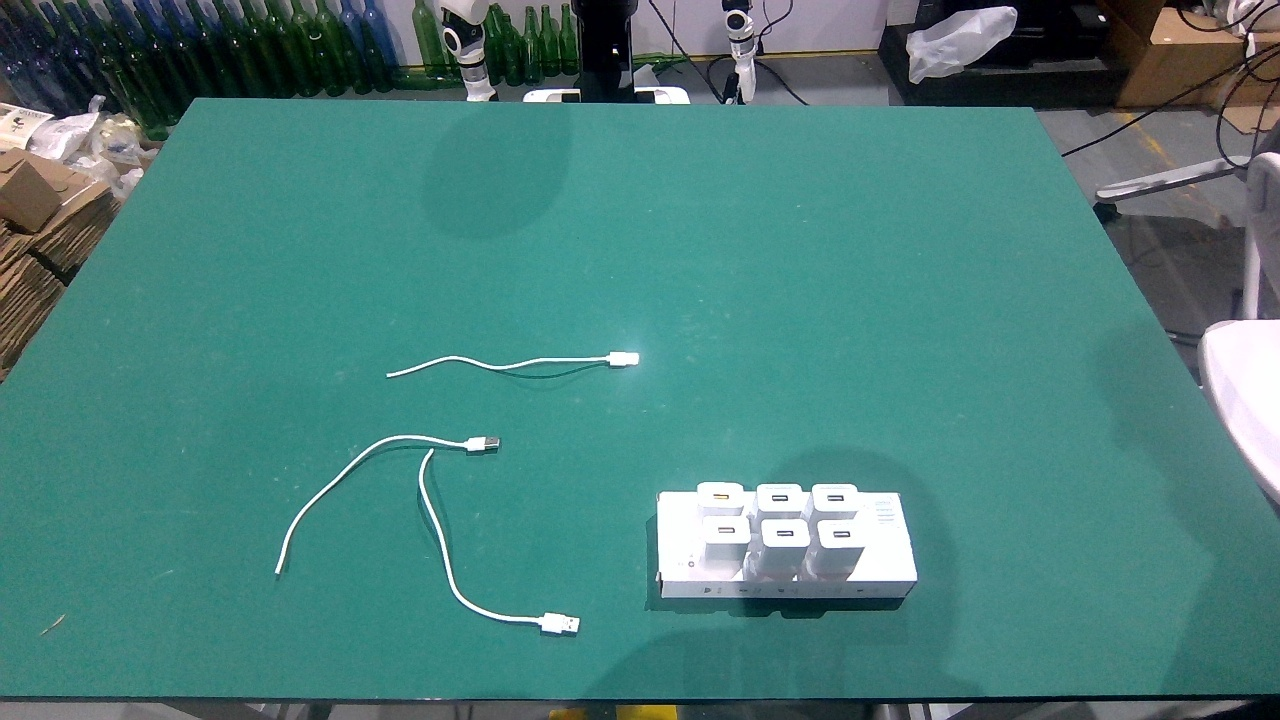usb_a_port: (774, 527, 796, 538), (711, 492, 731, 502), (770, 493, 790, 503), (825, 493, 846, 502), (715, 526, 738, 534), (831, 530, 851, 539)
